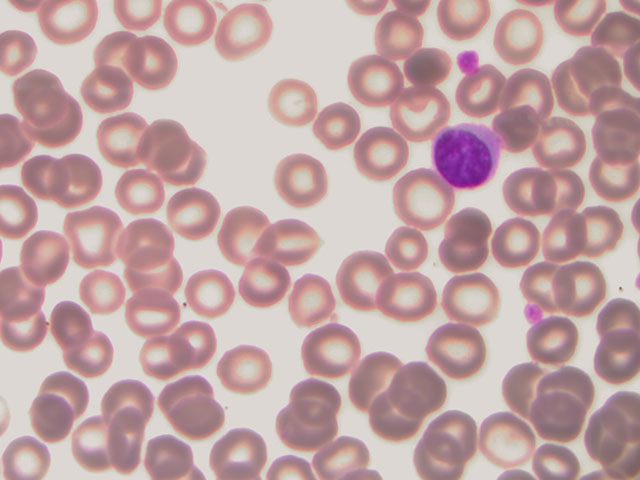Platelets: (456, 47, 482, 77), (522, 299, 547, 328)
RBC: (336, 248, 393, 307), (131, 37, 186, 87), (93, 20, 148, 70), (571, 40, 626, 90), (79, 62, 134, 111), (10, 69, 65, 118), (27, 93, 82, 142), (18, 145, 73, 194), (53, 159, 108, 208), (66, 207, 121, 256), (22, 228, 77, 277), (43, 301, 98, 350), (67, 327, 122, 376), (40, 361, 95, 410), (25, 392, 80, 441), (65, 420, 120, 469), (99, 413, 154, 462), (100, 375, 155, 424), (216, 7, 271, 56), (263, 76, 318, 125), (311, 102, 366, 151), (275, 156, 330, 205), (139, 126, 194, 175), (96, 111, 151, 160), (170, 189, 225, 238), (117, 166, 172, 215), (118, 213, 173, 262), (126, 253, 181, 302), (74, 268, 129, 317), (124, 293, 179, 342), (172, 321, 227, 370), (164, 373, 219, 422), (214, 341, 269, 390), (216, 208, 271, 257), (183, 268, 238, 317), (233, 261, 288, 310), (266, 216, 321, 265), (278, 267, 333, 316), (305, 331, 360, 380), (285, 371, 340, 420), (265, 410, 320, 459), (211, 424, 266, 473), (135, 431, 190, 480), (314, 431, 369, 480), (370, 396, 425, 445), (391, 364, 446, 413), (350, 348, 405, 397), (430, 326, 485, 375), (444, 271, 499, 320), (375, 272, 430, 321), (380, 218, 435, 267), (393, 170, 448, 219), (347, 130, 402, 179), (395, 85, 450, 134), (344, 58, 399, 107), (399, 40, 454, 89), (367, 14, 422, 63), (455, 67, 510, 116), (504, 67, 559, 116), (494, 93, 549, 142), (538, 122, 593, 171), (497, 170, 552, 219), (543, 167, 598, 216), (573, 201, 628, 250), (543, 212, 598, 261), (493, 217, 548, 266), (441, 203, 496, 252), (435, 228, 490, 277), (496, 360, 551, 409), (527, 324, 582, 373), (560, 261, 615, 310), (513, 252, 568, 301), (585, 330, 640, 379), (540, 390, 595, 439), (484, 410, 539, 459), (424, 409, 479, 458), (414, 431, 469, 480), (494, 12, 549, 61), (542, 65, 597, 114), (585, 91, 640, 140), (1, 270, 55, 319), (1, 304, 55, 353), (1, 431, 55, 480), (42, 1, 97, 49), (165, 1, 220, 49), (434, 1, 489, 49), (1, 26, 42, 75)
WBC: (433, 119, 501, 187)
